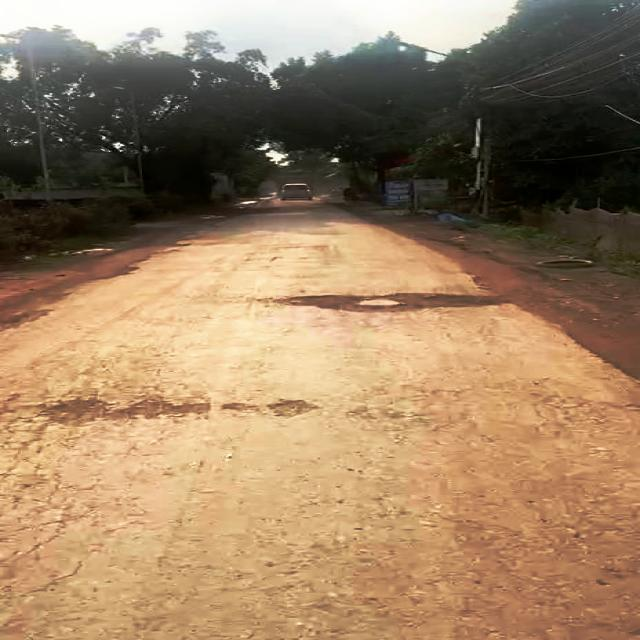pothole: (270, 287, 508, 316)
